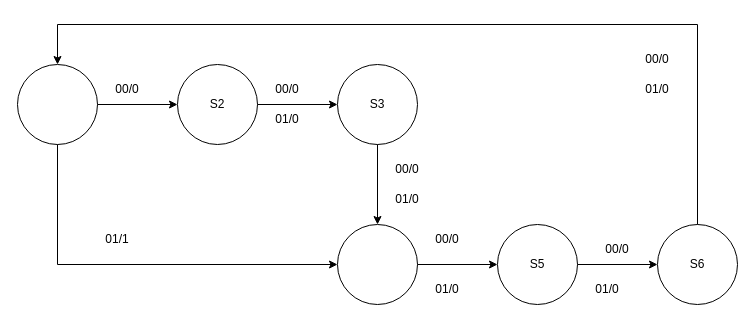
Some shapes in this 755 by 322 pixel diagram are drawn without their labels. The shapes that lost their labels are listed below. From the top down, each one's centre as x and y in pixels, then its label:
the point at 57,104: S1
the point at 377,264: S4
